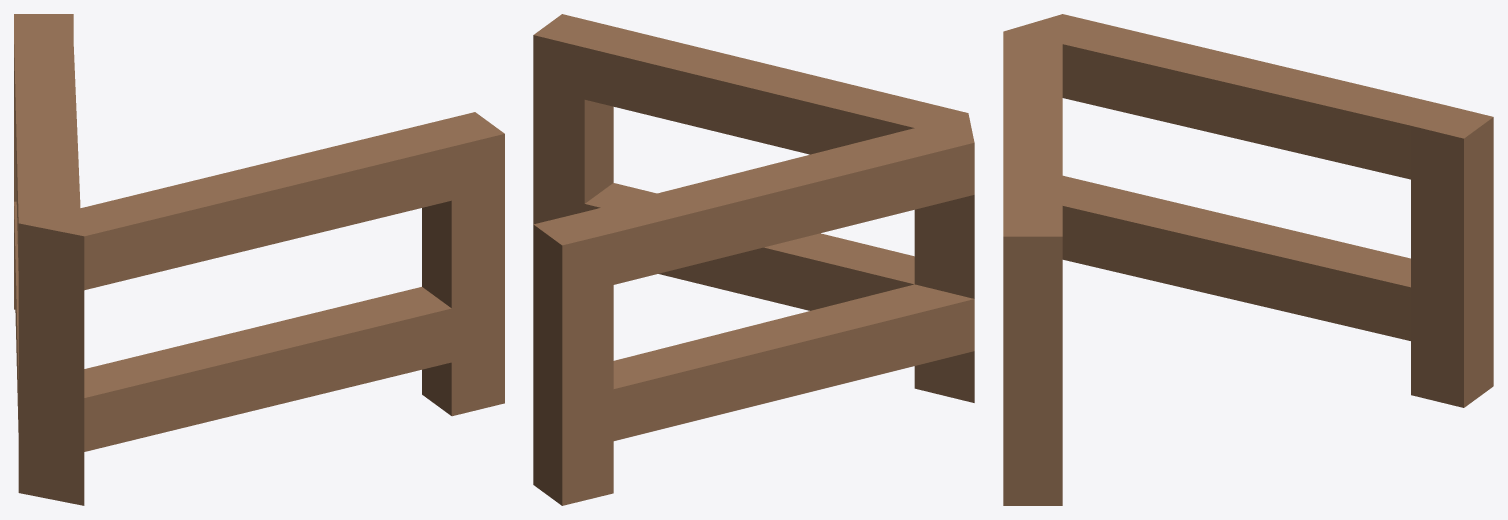
File: fence7.fbx
The picture shows the model from 3 angles, left to right: view 1: azimuth 30°, elevation 25°; view 2: azimuth 150°, elevation 25°; view 3: azimuth 270°, elevation 25°; orthographic projection. The views are drawn at different scales.
Parts seen in each view (by area): view 1: Cylinder; view 2: Cylinder; view 3: Cylinder.
Boxes of the visible parts, left/top/right/bottom form: Cylinder: left=14, top=14, right=504, bottom=505; Cylinder: left=533, top=14, right=974, bottom=505; Cylinder: left=1003, top=14, right=1493, bottom=505.
Bounding box in the file's own units: 0.886 × 0.5 × 0.825.
